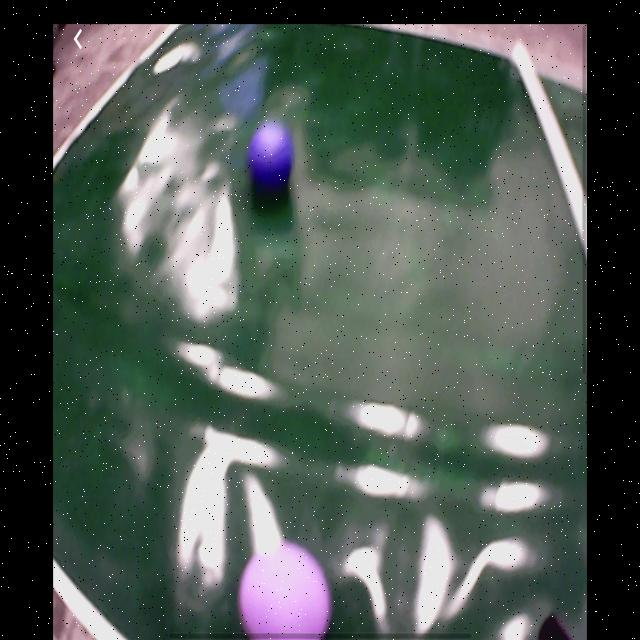ball: (240, 543, 332, 637), (250, 123, 296, 187)
